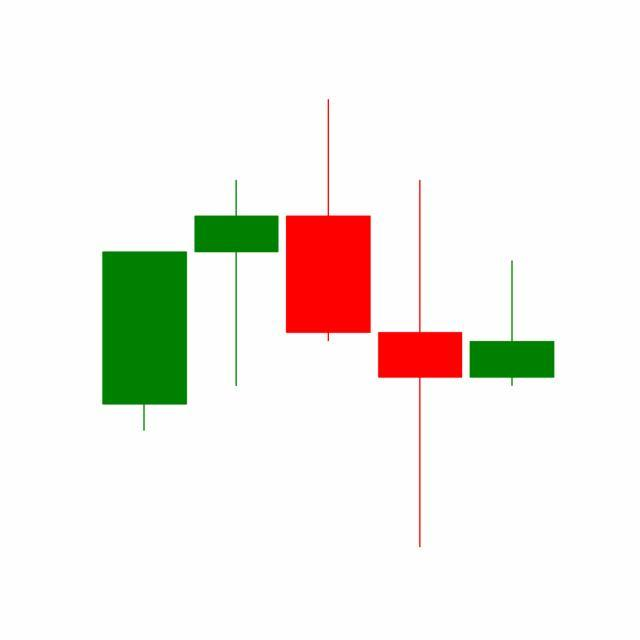Spinning Top: (374, 176, 468, 553)
